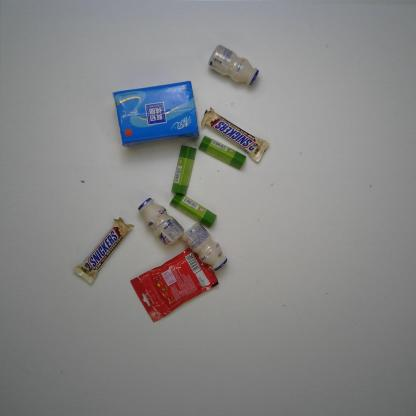Candy: (130, 246, 220, 324)
Chocolate: (72, 216, 135, 286), (200, 106, 271, 162)
Milk: (180, 221, 229, 272), (137, 197, 186, 246), (207, 44, 260, 86)
Stationery: (198, 135, 248, 171), (169, 192, 217, 229), (171, 144, 197, 196)
Tissue: (111, 80, 201, 148)
